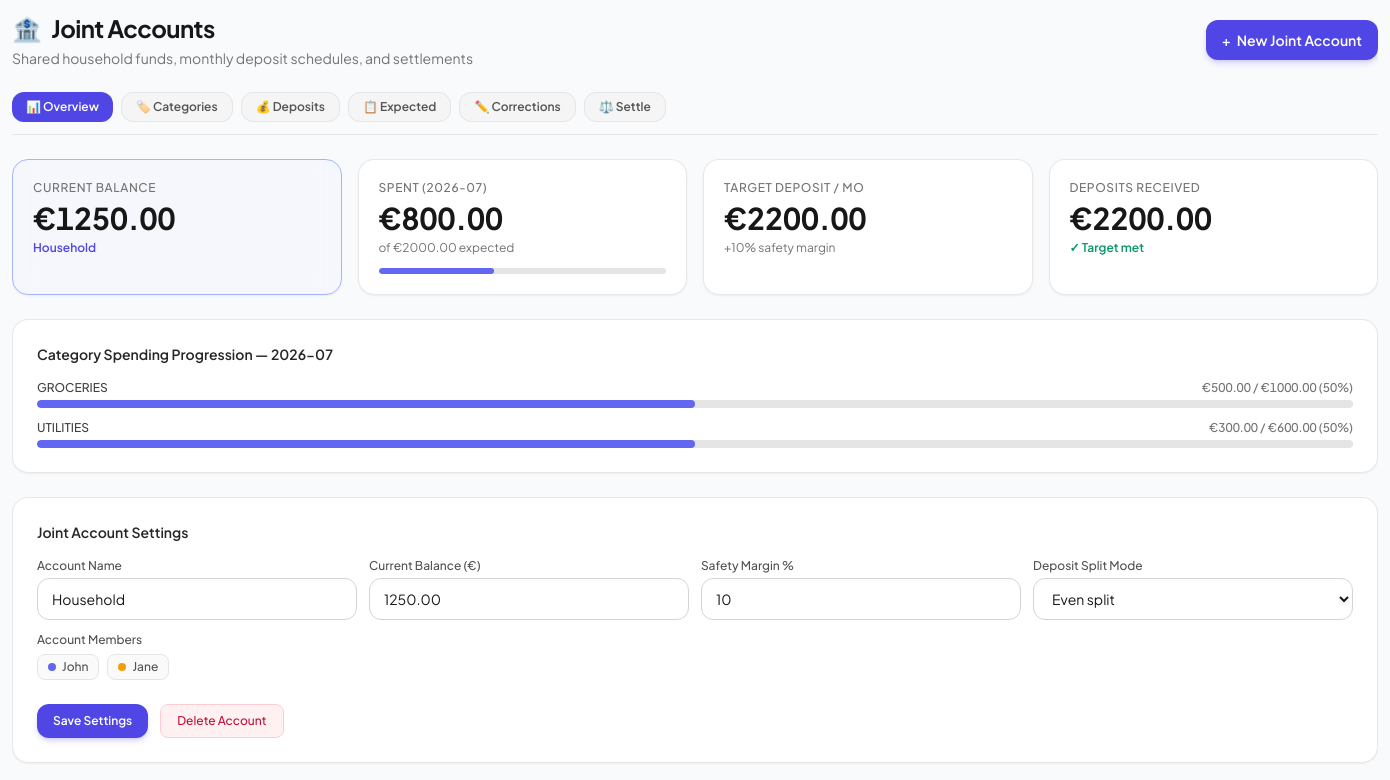
JointAccountTab.svelte — account exists › navigates to Settle section (ja-nav-settle)
The width and height of the screenshot is (1390, 780).
Click the button with id "ja-nav-settle": [625, 107] box x1=584 y1=92 x2=666 y2=122
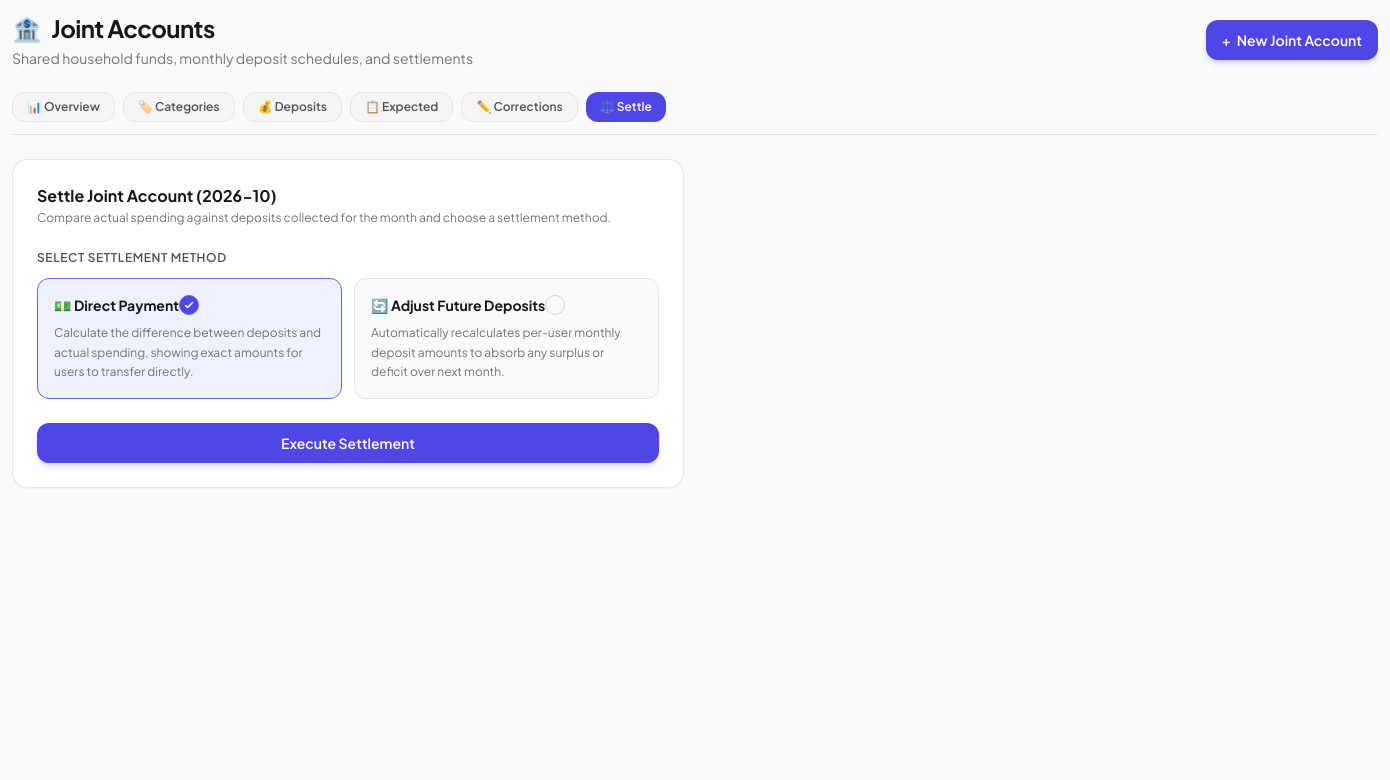
Expected: the heading "Settle Joint Account (2026-10)" is shown, x1=37 y1=185 x2=277 y2=206
Expected: the button with id "settle-option-direct-pay" is shown, x1=37 y1=278 x2=342 y2=398
Expected: the button with id "ja-settle-btn" is shown, x1=37 y1=422 x2=659 y2=462
